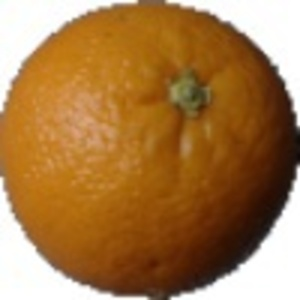laranja: (5, 1, 298, 299)
